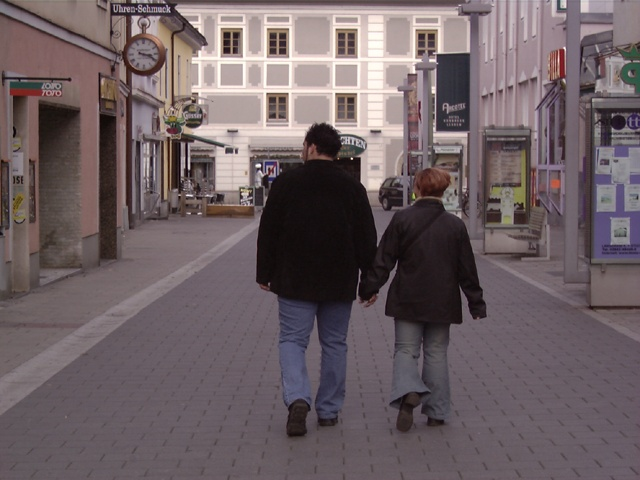person: (256, 128, 380, 433), (370, 174, 485, 432)
